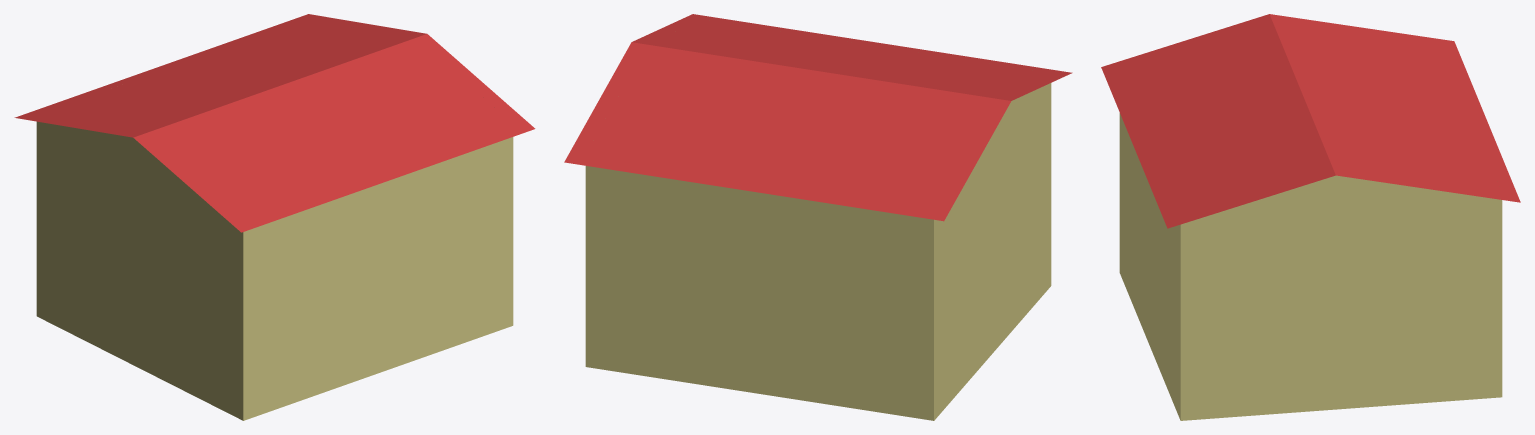
3 views of the same model, side by side, from view 1: azimuth 30°, elevation 25°; view 2: azimuth 150°, elevation 25°; view 3: azimuth 270°, elevation 25° (orthographic). The views are drawn at different scales.
Bounding box in the file's own units: 20.73 × 19.61 × 12.42.
